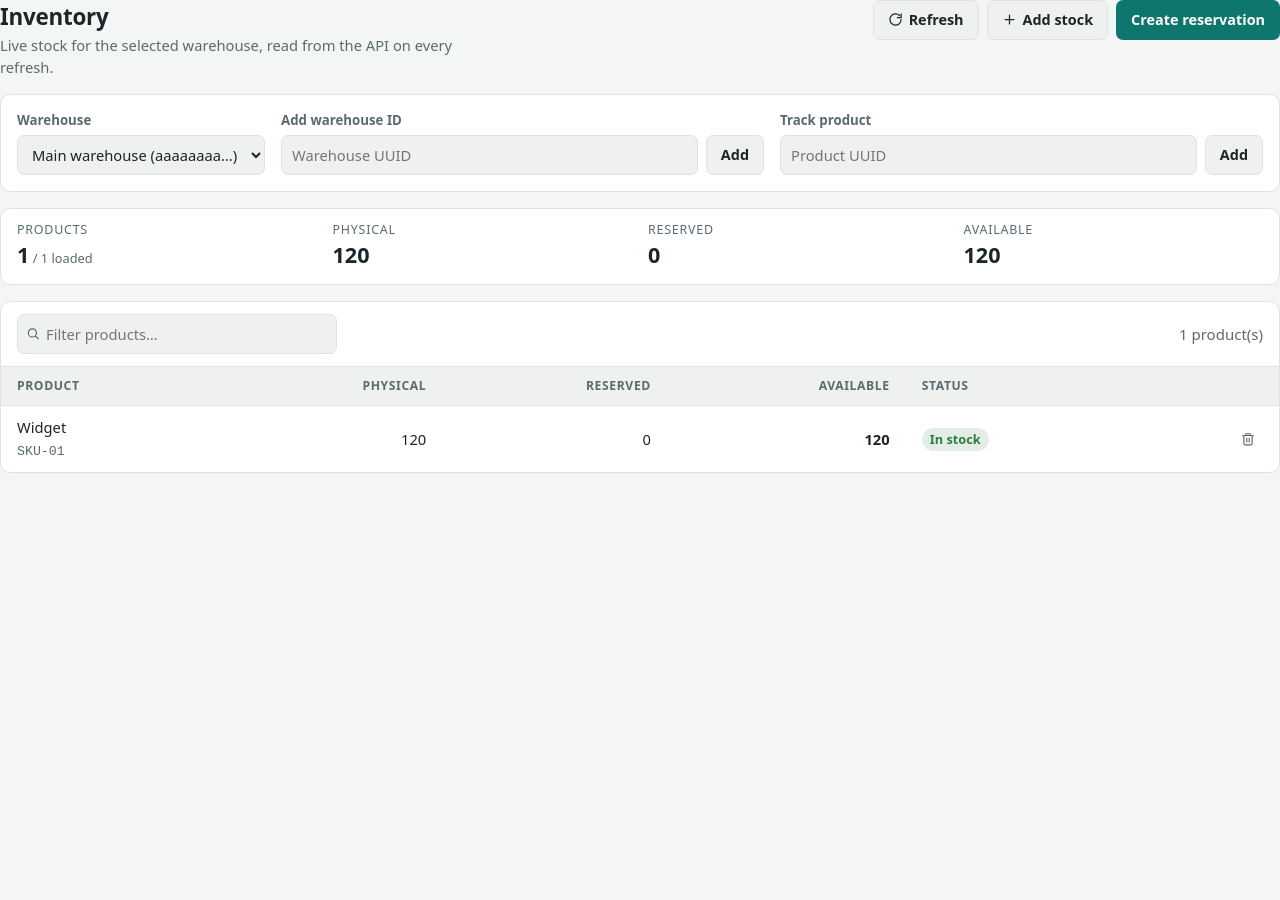
Test: InventoryPage › refreshes inventory and shows the hold after creating a reservation
The width and height of the screenshot is (1280, 900).
Expected: the text "In stock" is shown, [922, 428, 989, 451]
Click the button "Create reservation". click: (1198, 20)
box: [1116, 0, 1279, 40]
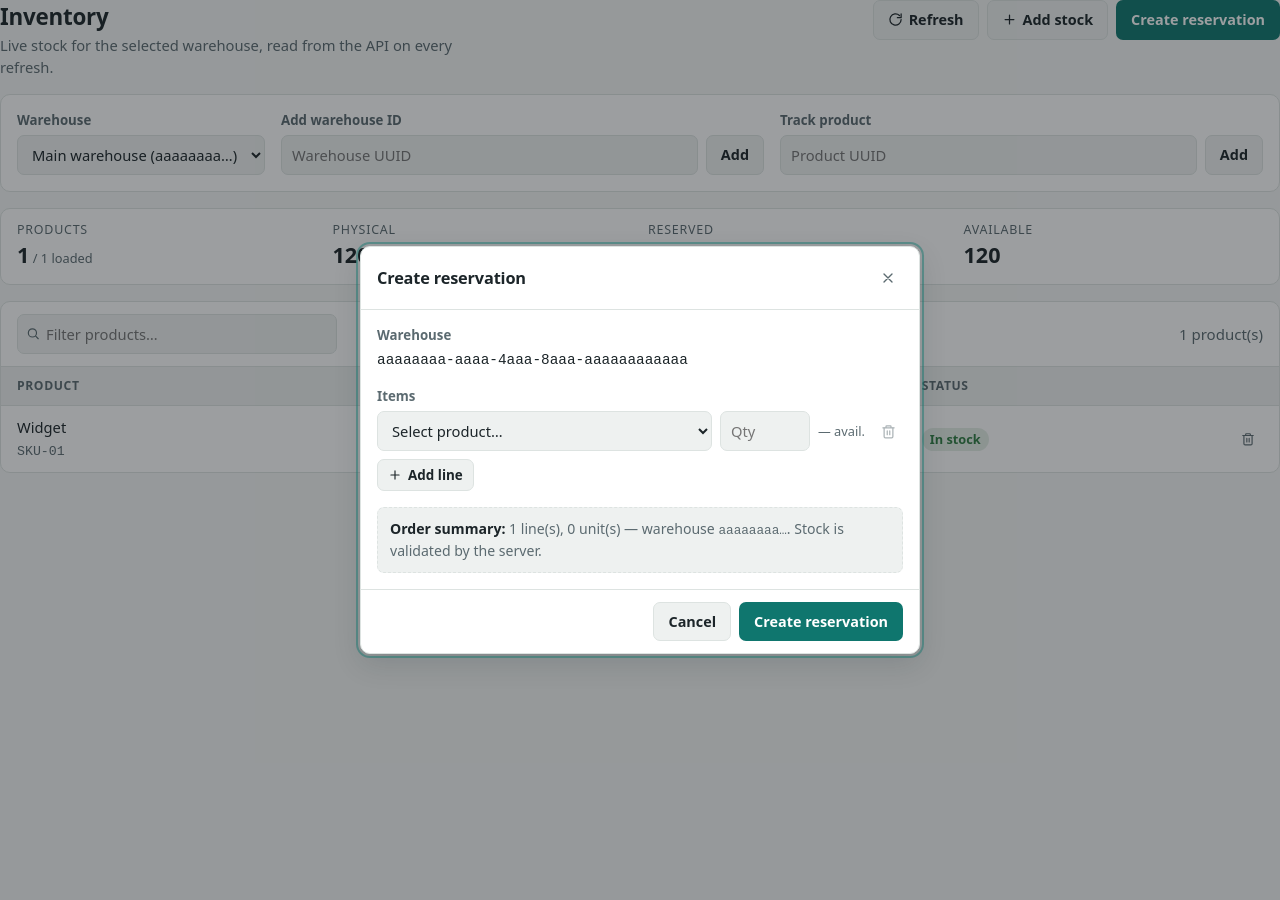
Select "Widget · SKU-01" in the dropdown named "Product for line". click: (544, 431)
box: [377, 411, 712, 451]
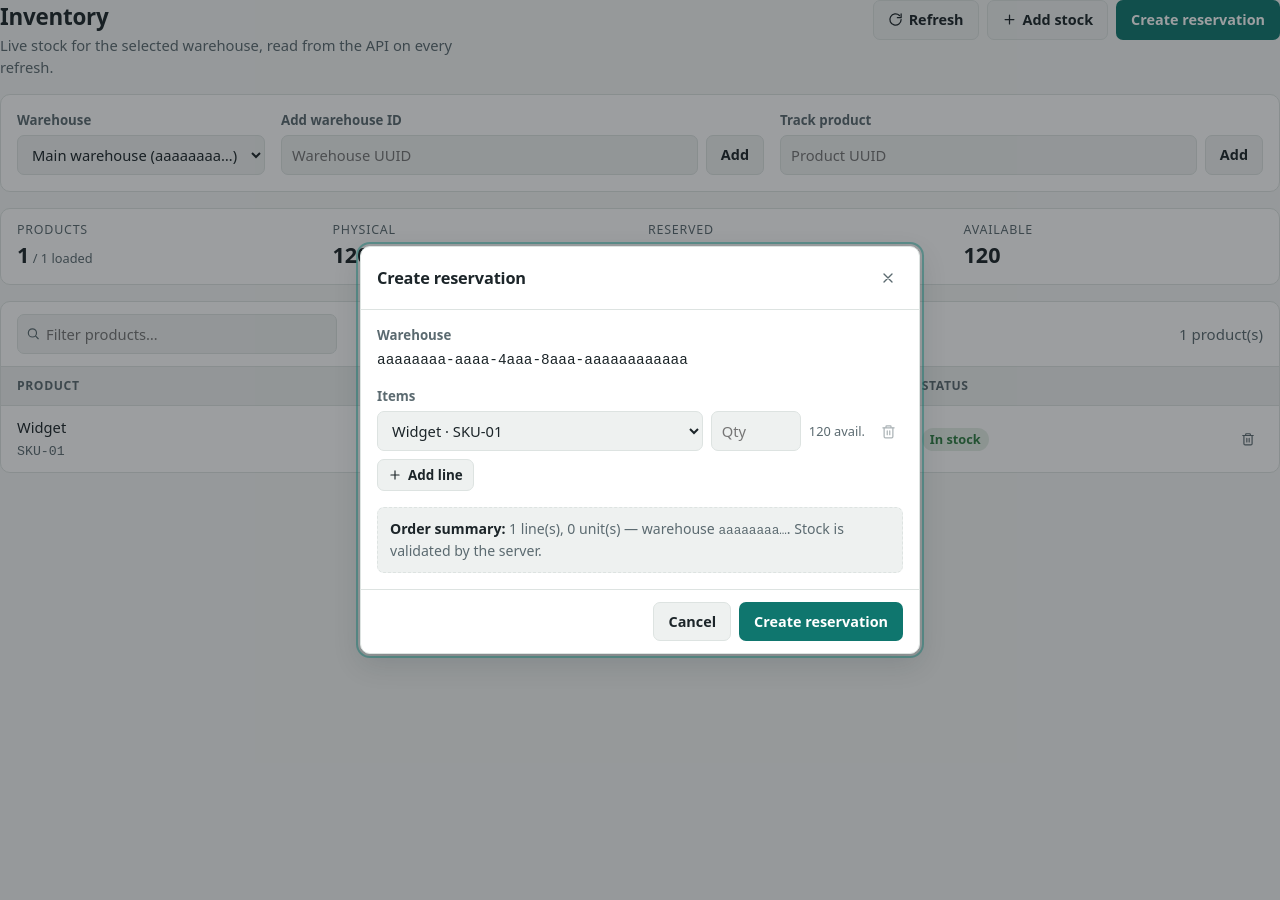
Type "3" into the field named "Quantity for line". click: (756, 431)
box: [711, 411, 801, 451]
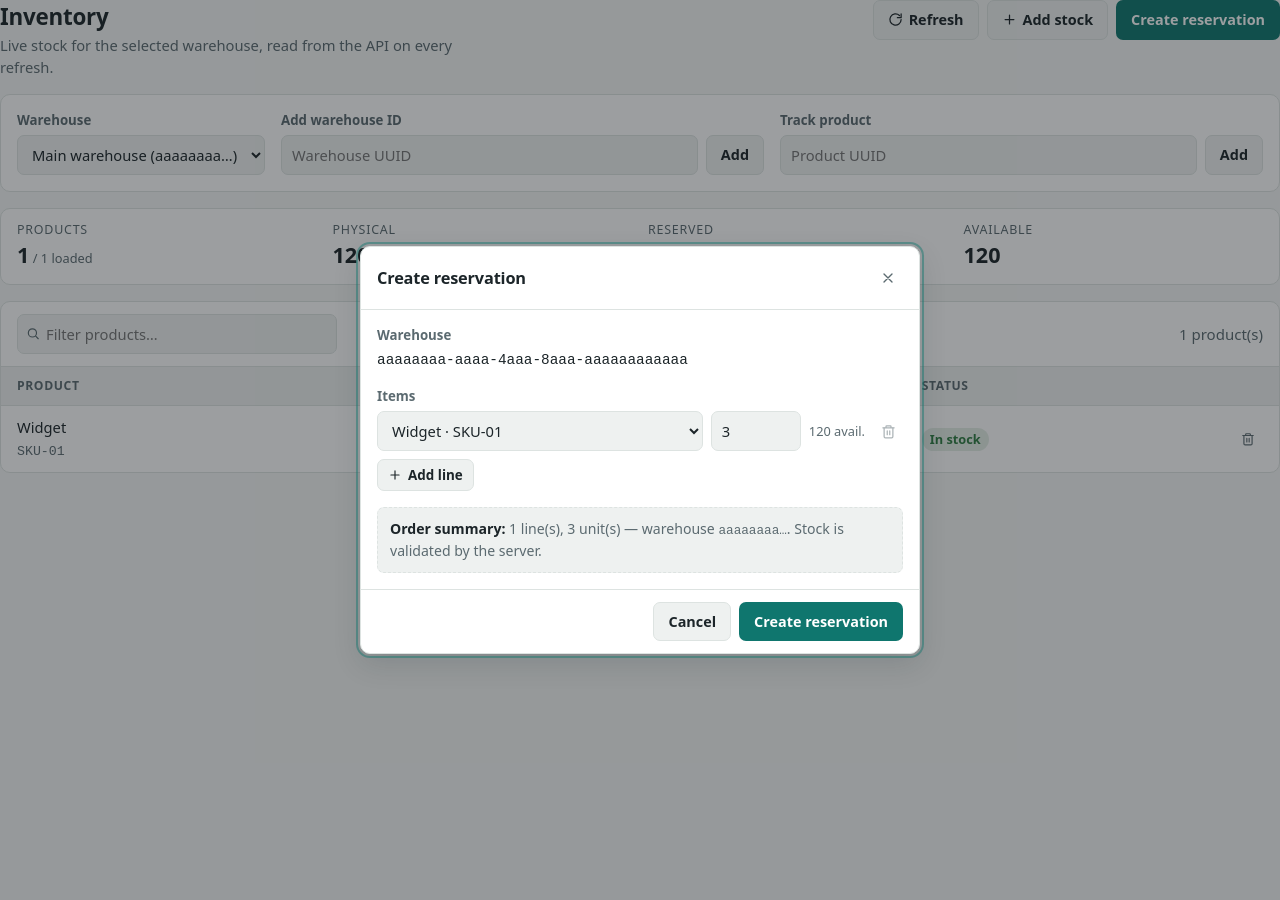
Submit the form with id "create-reservation-form", box [377, 326, 903, 573]
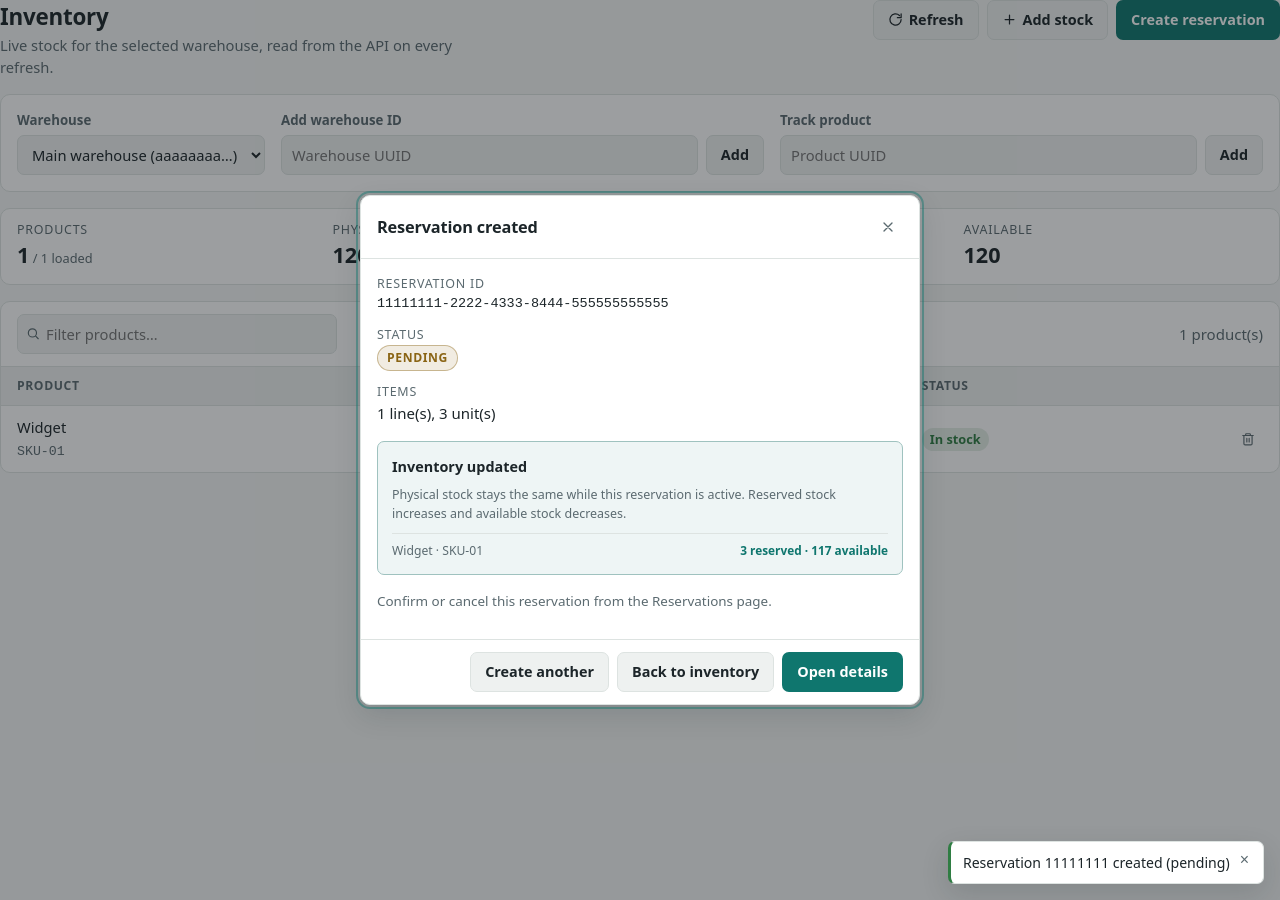
Expected: the text "3 reserved · 117 available" is shown, [740, 542, 888, 559]
Click the button "Back to inventory". click: (696, 672)
box: [617, 652, 774, 692]
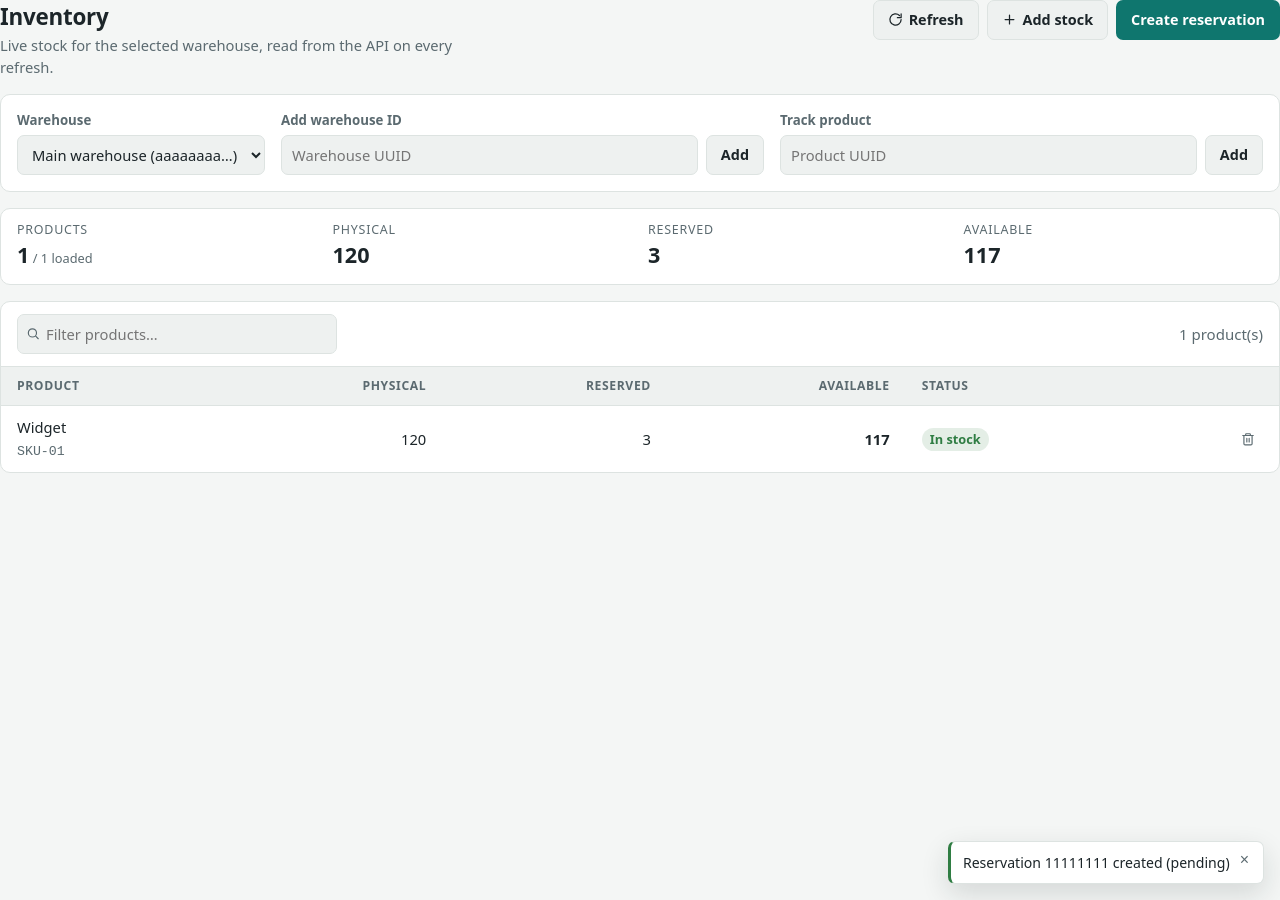
Expected: the cell "120" is shown, [220, 406, 442, 472]
Expected: the cell "3" is shown, [442, 406, 667, 472]
Expected: the cell "117" is shown, [667, 406, 906, 472]
